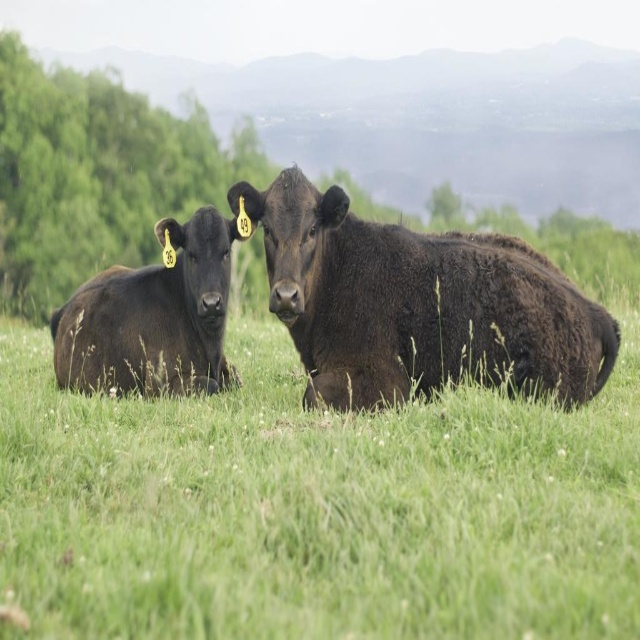Cattle: (228, 163, 625, 420), (50, 205, 259, 399)
